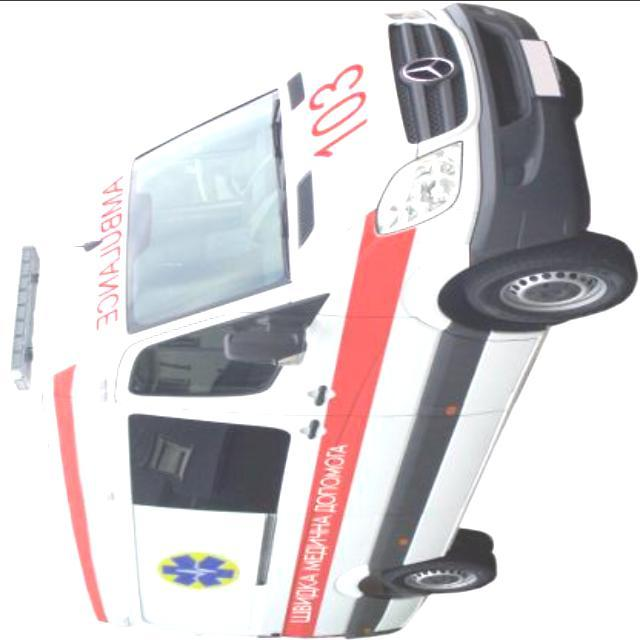emergency-vehicle: (11, 0, 632, 638)
